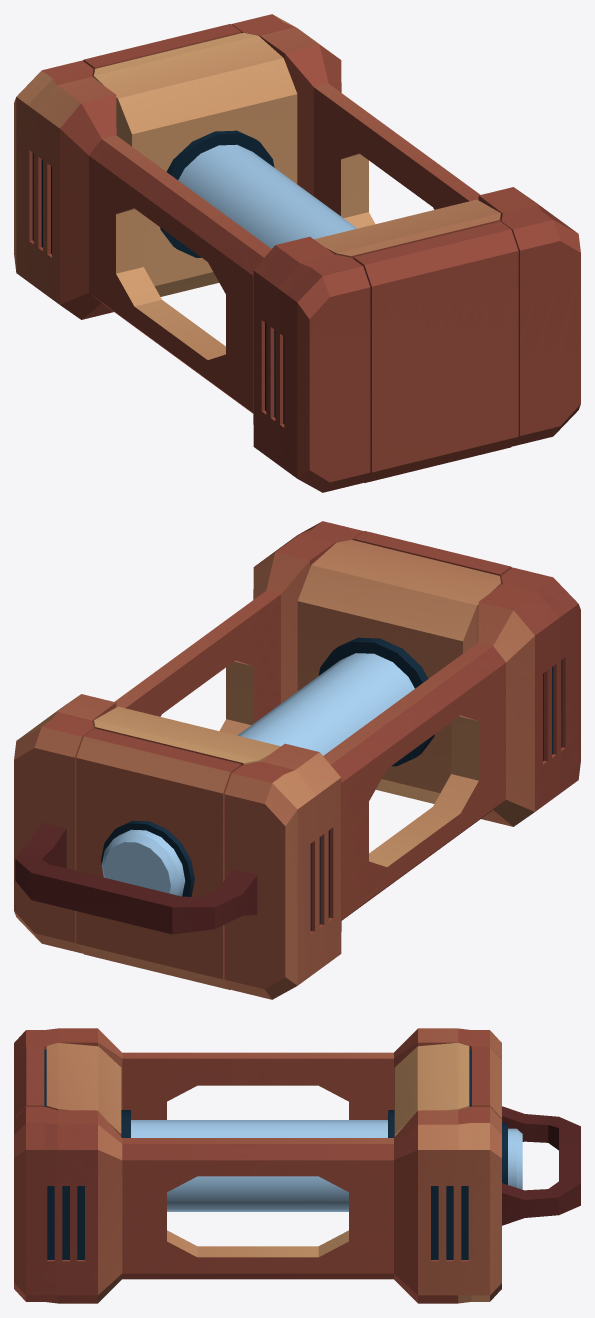
The model's file is Lantern.fbx.
3 renders of one model, top to bottom at view 1: azimuth 30°, elevation 25°; view 2: azimuth 150°, elevation 25°; view 3: azimuth 270°, elevation 25°, orthographic. The views are drawn at different scales.
Parts seen in each view (by area): view 1: Lantern, Cylinder; view 2: Lantern, handle, Cylinder, cap; view 3: Lantern, Cylinder, handle, cap.
Boxes of the visible parts, box(x1,y1,x2,y2) form: Lantern: box(14, 14, 580, 492); Cylinder: box(160, 130, 356, 257); Lantern: box(14, 521, 580, 999); handle: box(15, 822, 257, 934); Cylinder: box(238, 637, 434, 766); cap: box(101, 820, 194, 896); Lantern: box(14, 1028, 501, 1303); Cylinder: box(121, 1110, 394, 1211); handle: box(502, 1106, 580, 1225); cap: box(502, 1123, 522, 1189).
Bounding box in the file's own units: 80.94 × 59.95 × 171.
